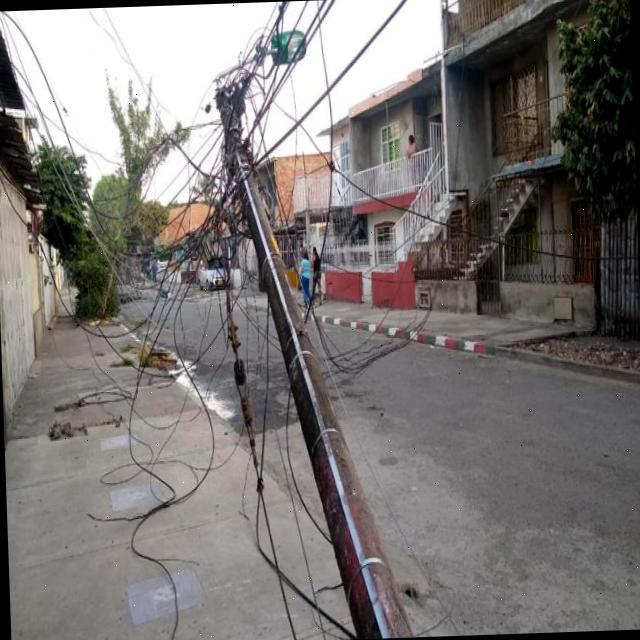Broken Pole: (217, 28, 415, 637)
